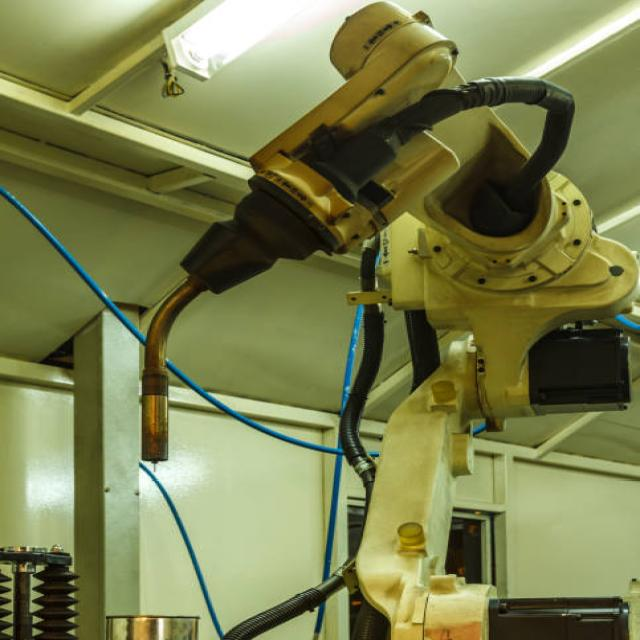Robotic-arm: (173, 0, 640, 632)
